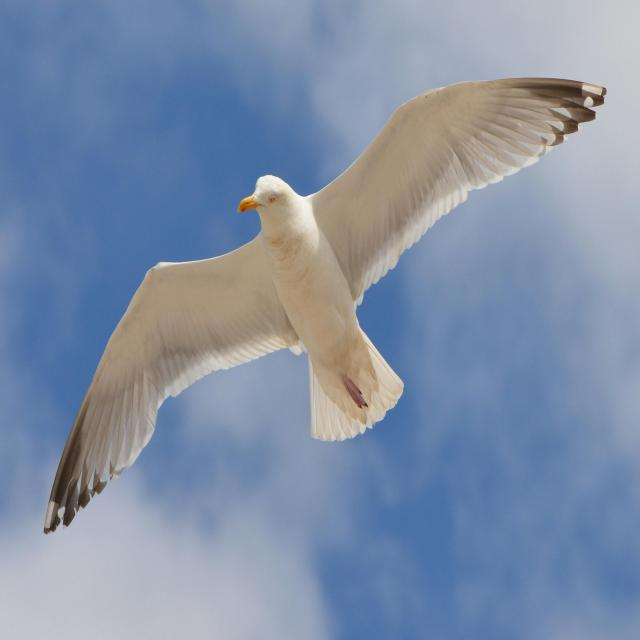delfin: (45, 78, 606, 533)
